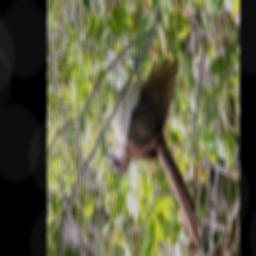Cuckoo: (103, 48, 180, 256)
